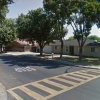crosswalk: (6, 68, 99, 100)
